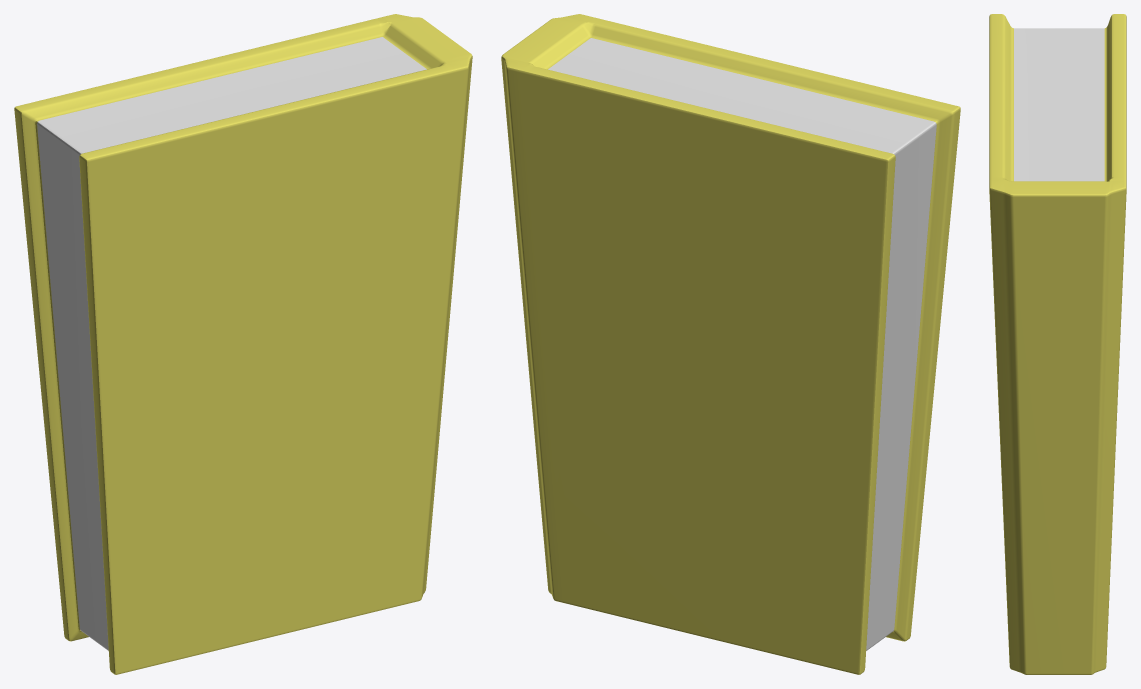
Rendered from yellow book.fbx.
3 renders of one model, left to right at view 1: azimuth 30°, elevation 25°; view 2: azimuth 150°, elevation 25°; view 3: azimuth 270°, elevation 25°, orthographic. The views are drawn at different scales.
Parts seen in each view (by area): view 1: book; view 2: book; view 3: book.
Part boxes in pixels (x1=…): book: x1=14, y1=14, x2=472, y2=674; book: x1=501, y1=14, x2=960, y2=674; book: x1=989, y1=14, x2=1126, y2=674.
Bounding box in the file's own units: 3.12 × 4.01 × 0.9981.
